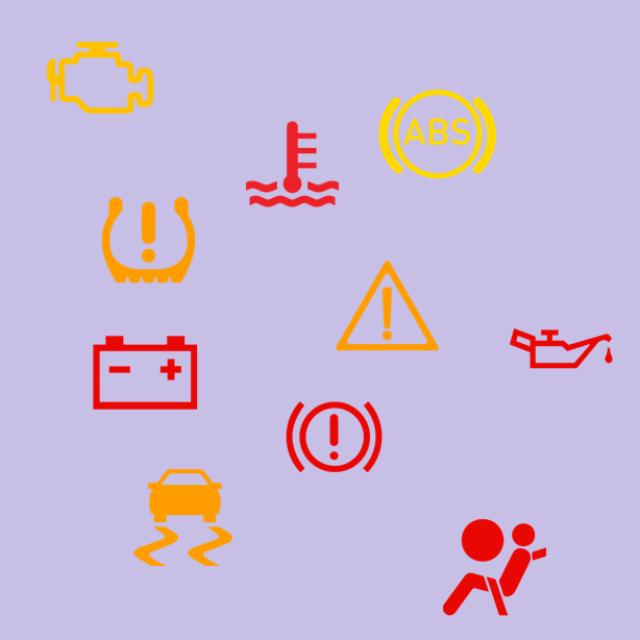Anti Lock Braking System: (374, 70, 502, 198)
Braking System Issue: (270, 374, 398, 502)
Charging System Issue: (82, 308, 210, 436)
Check Engine: (36, 13, 165, 142)
Electronic Stability Problem -ESP-: (119, 454, 247, 582)
Engine Overheating Warning Light: (228, 100, 356, 228)
Low Engine Oil Warning Light: (498, 284, 626, 412)
Low Tire Pressure Warning Light: (84, 176, 212, 304)
Master warning light: (323, 242, 451, 370)
SRS-Airbag: (431, 504, 558, 632)
